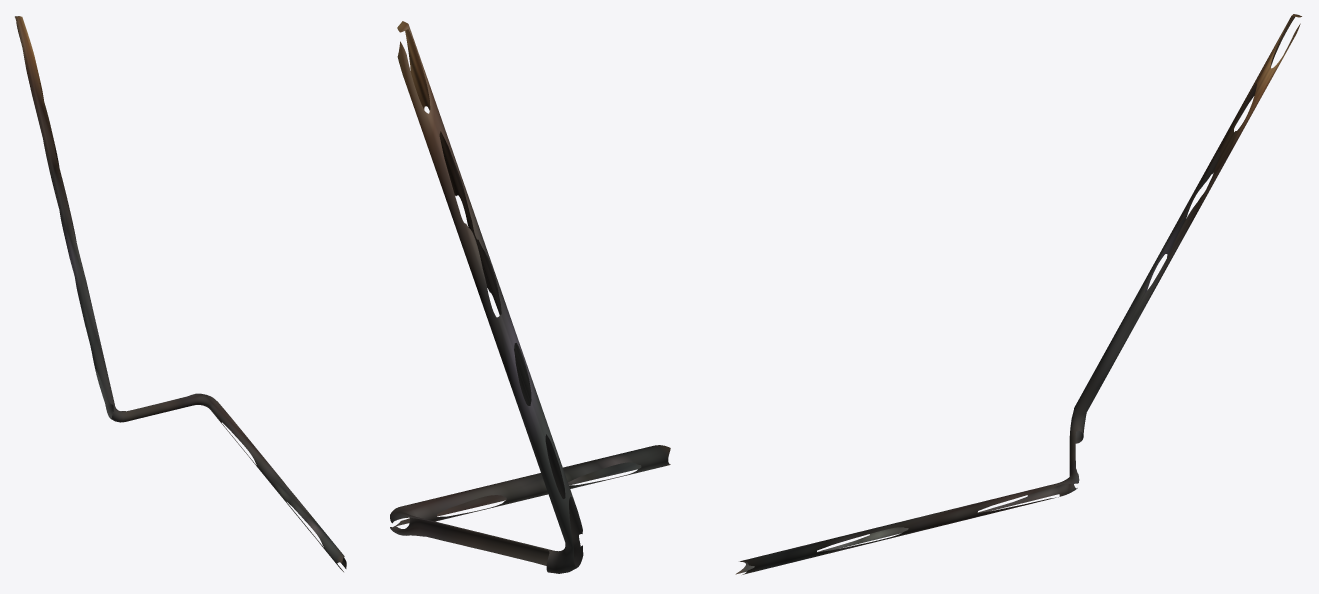
Rendered from wire5.fbx.
3 views of the same model, side by side, from view 1: azimuth 30°, elevation 25°; view 2: azimuth 150°, elevation 25°; view 3: azimuth 270°, elevation 25° (orthographic). The views are drawn at different scales.
Visible parts, largest first — view 1: wire5; view 2: wire5; view 3: wire5.
Boxes of the visible parts, x1,y1,x2,y2 form: wire5: [15, 16, 346, 571]; wire5: [390, 21, 670, 573]; wire5: [735, 14, 1301, 574].
Bounding box in the file's own units: 0.8751 × 3.27 × 3.44.
1 material, 1 textured.
